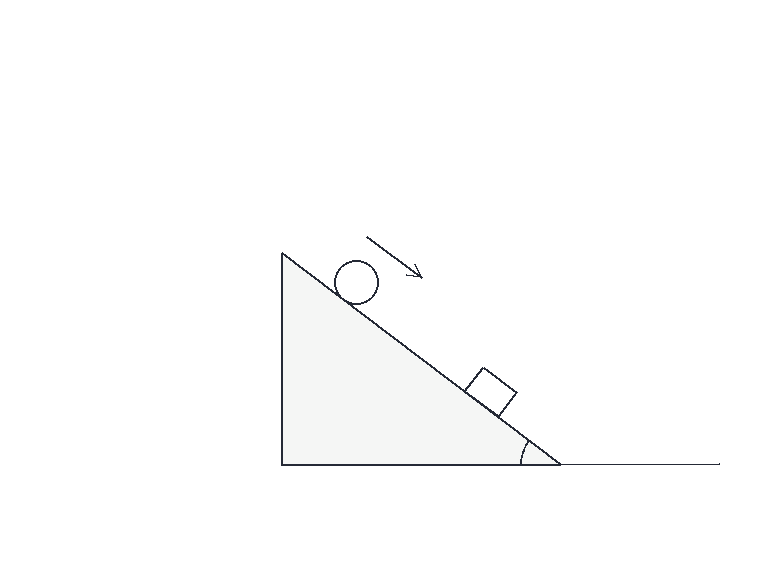ball: (332, 258, 380, 306)
block: (462, 365, 518, 418)
ramp: (279, 251, 563, 466)
